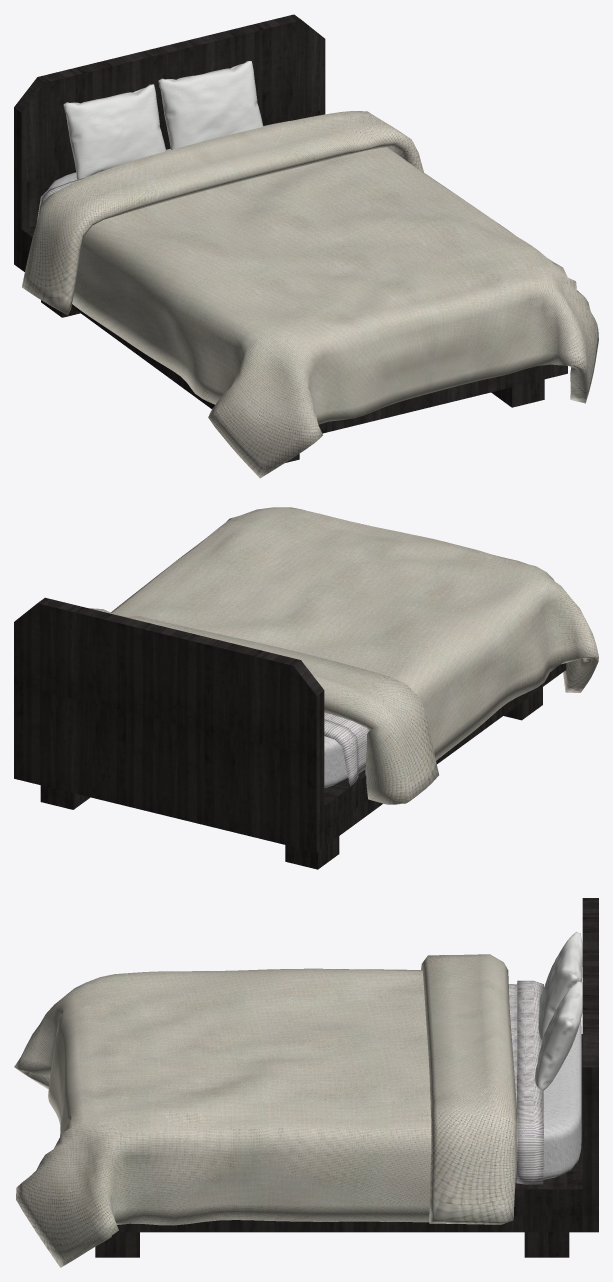
The model's file is bed.fbx.
The picture shows the model from 3 angles, top to bottom: view 1: azimuth 30°, elevation 25°; view 2: azimuth 150°, elevation 25°; view 3: azimuth 270°, elevation 25°; orthographic projection. The views are drawn at different scales.
Visible parts, largest first — view 1: Plane.001, Cube, Cube.002, Cube.003; view 2: Plane.001, Cube, Plane.002, Cube.001; view 3: Plane.001, Cube, Plane.002, Cube.001, Cube.003, Cube.002.
Boxes of the visible parts, bbox=[...] form: Plane.001: bbox=[22, 111, 598, 478]; Cube: bbox=[14, 14, 567, 462]; Cube.002: bbox=[63, 84, 166, 179]; Cube.003: bbox=[158, 61, 263, 149]; Plane.001: bbox=[88, 507, 598, 804]; Cube: bbox=[14, 597, 566, 869]; Plane.002: bbox=[324, 712, 368, 786]; Cube.001: bbox=[324, 736, 348, 787]; Plane.001: bbox=[14, 954, 516, 1267]; Cube: bbox=[95, 898, 598, 1257]; Plane.002: bbox=[508, 980, 543, 1184]; Cube.001: bbox=[543, 1020, 581, 1179]; Cube.003: bbox=[535, 981, 582, 1090]; Cube.002: bbox=[538, 932, 582, 1039].
Size of the model in its own units: 992 by 508 by 1208.
